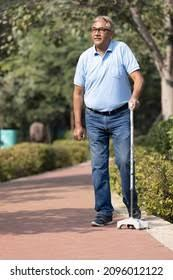Human: (70, 6, 162, 238)
